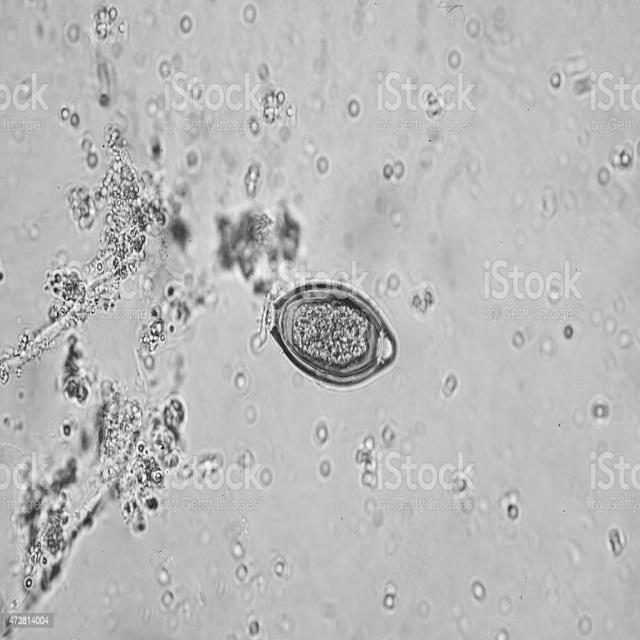Trichuris Trichiura: (261, 278, 400, 396)
